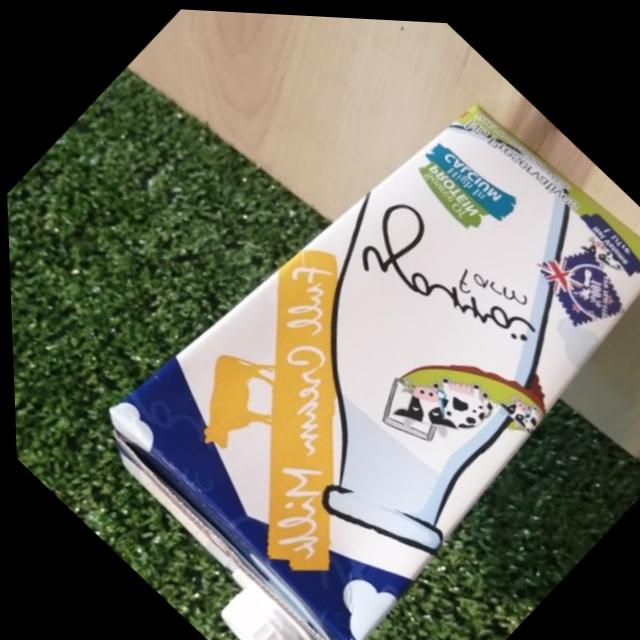cardboard: (33, 20, 640, 640)
